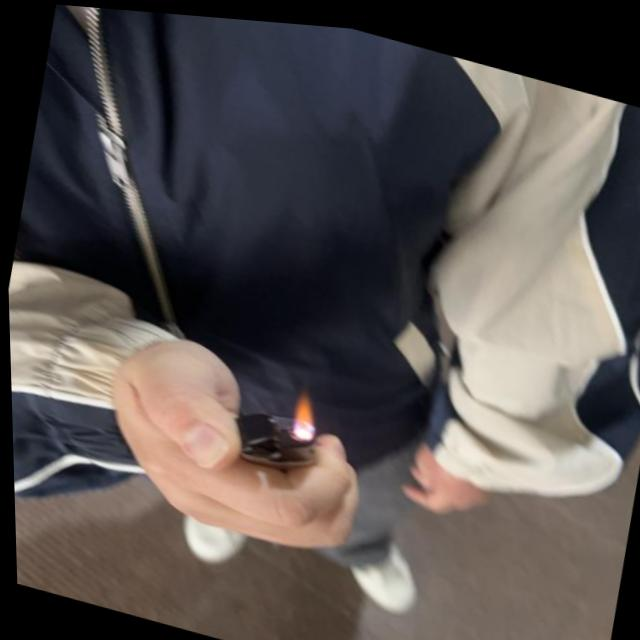Fire: (284, 386, 322, 431)
